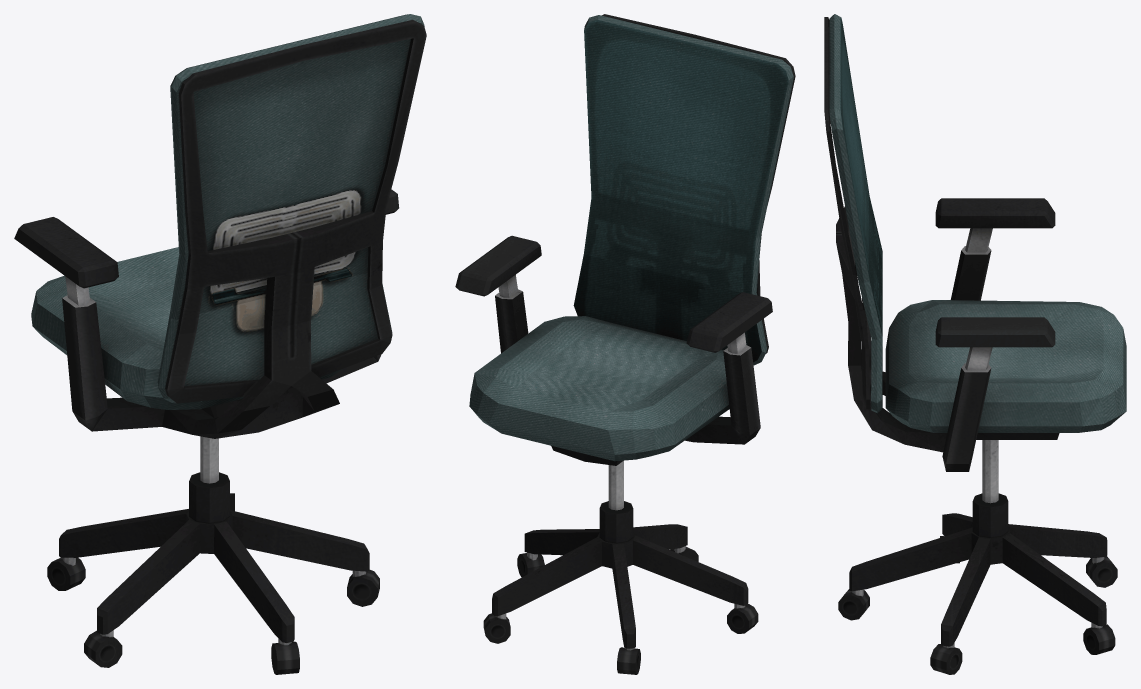
The model's file is ClassroomChairSingle.DAE.
3 renders of one model, left to right at view 1: azimuth 30°, elevation 25°; view 2: azimuth 150°, elevation 25°; view 3: azimuth 270°, elevation 25°, orthographic. The views are drawn at different scales.
Visible parts, largest first — view 1: classChair; view 2: classChair; view 3: classChair.
Part boxes in pixels (bbox=[...]): classChair: bbox=[14, 14, 426, 674]; classChair: bbox=[455, 14, 795, 674]; classChair: bbox=[824, 14, 1126, 674].
Size of the model in its own units: 0.6052 by 0.5695 by 1.16.
Materials: 1 (1 with a texture image).
